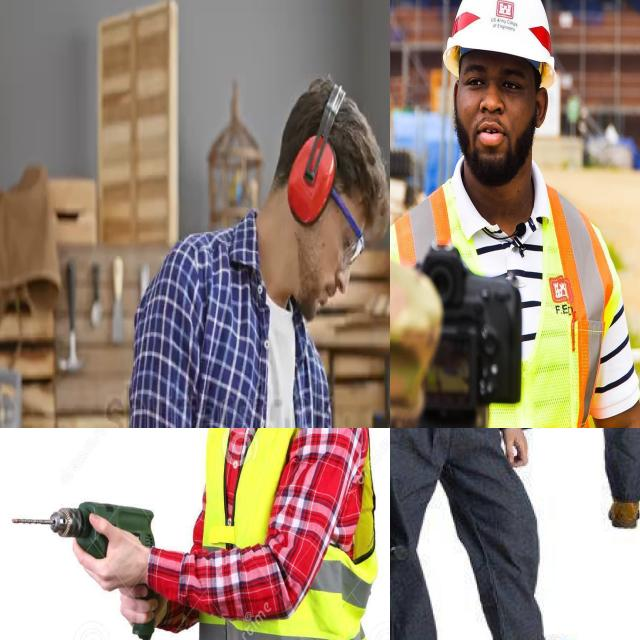Ear-protection: (278, 122, 338, 236)
No_Ear-Protection: (533, 81, 549, 133)
No_Glasses: (458, 60, 530, 105)
face_nomask: (442, 48, 554, 171)
glasses: (324, 189, 368, 265)
hand_noglove: (61, 508, 147, 614), (113, 546, 167, 638), (498, 428, 541, 473)
head_helmet: (436, 0, 564, 79)
person: (390, 0, 640, 428), (118, 41, 371, 428), (135, 428, 390, 640), (390, 428, 583, 640)
shoes: (597, 497, 640, 532)
vest: (390, 185, 629, 428), (176, 428, 381, 640)
